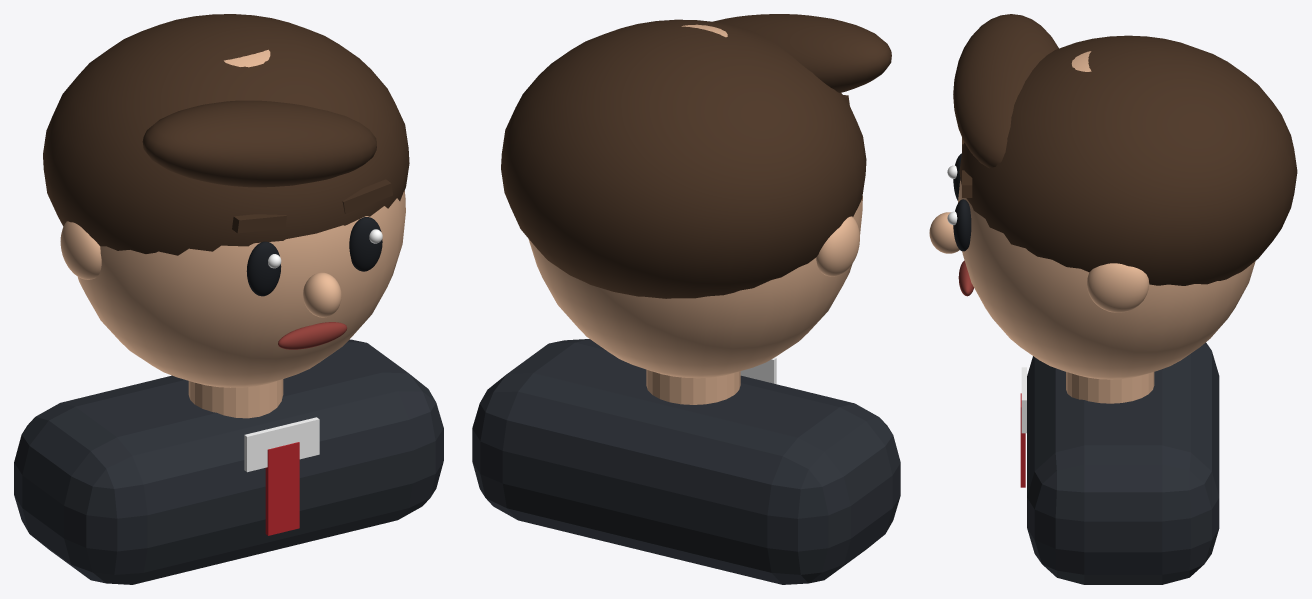
Rendered from busto_traje.glb.
The picture shows the model from 3 angles, left to right: view 1: azimuth 30°, elevation 25°; view 2: azimuth 150°, elevation 25°; view 3: azimuth 270°, elevation 25°; orthographic projection. The views are drawn at different scales.
Parts seen in each view (by area): view 1: Cube.003, Sphere.005, Sphere, Sphere.006, Cube.005, ojos, Cylinder, Cube.004, Sphere.001, Sphere.003, Sphere.004, Cube.001 (+1 smaller); view 2: Sphere.005, Cube.003, Sphere, Sphere.006, Cylinder, Sphere.001, Cube.004; view 3: Sphere.005, Cube.003, Sphere, Sphere.006, Sphere.002, Cylinder, ojos, Sphere.003.
Part boxes in pixels (box(x1,y1,x2,y2)): Cube.003: box(14, 339, 443, 584); Sphere.005: box(43, 14, 409, 255); Sphere: box(78, 49, 405, 387); Sphere.006: box(142, 100, 376, 187); Cube.005: box(265, 442, 299, 535); ojos: box(246, 217, 382, 296); Cylinder: box(188, 379, 283, 418); Cube.004: box(244, 417, 319, 472); Sphere.001: box(60, 221, 101, 279); Sphere.003: box(303, 272, 341, 317); Sphere.004: box(278, 322, 347, 349); Cube.001: box(232, 214, 286, 233); Sphere.005: box(501, 19, 866, 298); Cube.003: box(472, 339, 900, 584); Sphere: box(528, 24, 862, 378); Sphere.006: box(713, 14, 891, 92); Cylinder: box(646, 369, 740, 404); Sphere.001: box(816, 216, 859, 276); Cube.004: box(740, 357, 776, 384); Sphere.005: box(959, 35, 1297, 285); Cube.003: box(1027, 342, 1219, 584); Sphere: box(958, 51, 1255, 379); Sphere.006: box(953, 14, 1058, 168); Sphere.002: box(1087, 263, 1149, 312); Cylinder: box(1066, 372, 1154, 403); ojos: box(947, 153, 971, 251); Sphere.003: box(929, 212, 959, 253).
Size of the model in its own units: 1.54 by 1.96 by 1.41.
